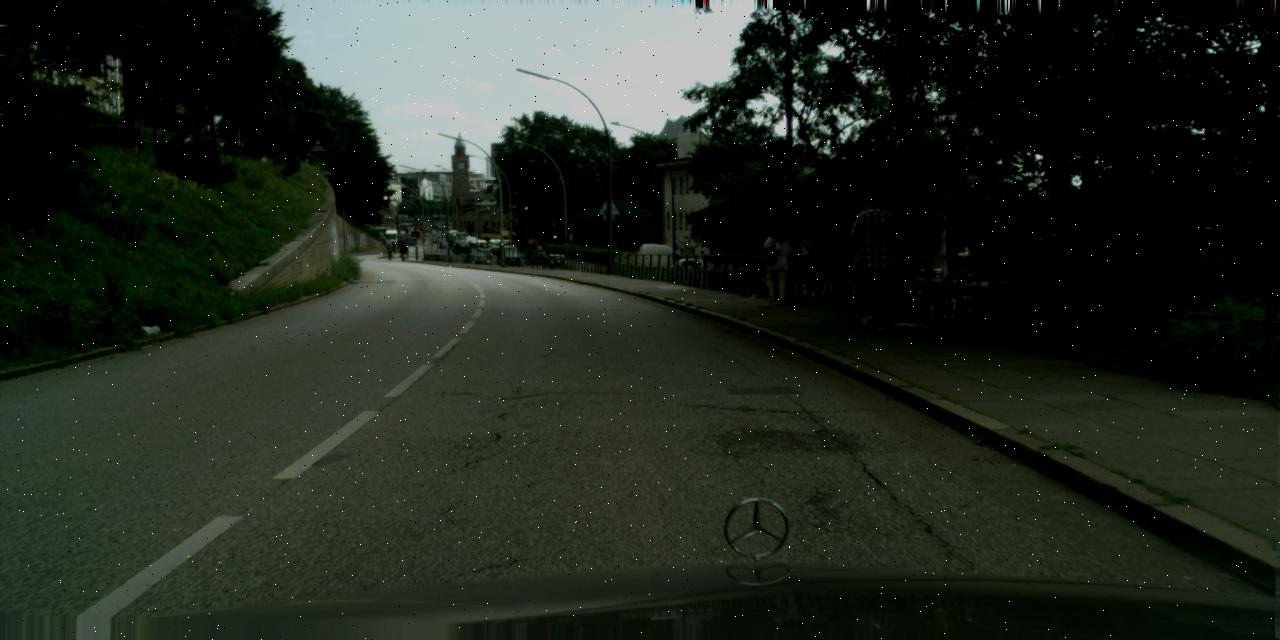ped: (846, 189, 902, 329), (762, 225, 794, 302), (524, 234, 535, 260), (386, 240, 392, 254), (398, 240, 404, 254)
